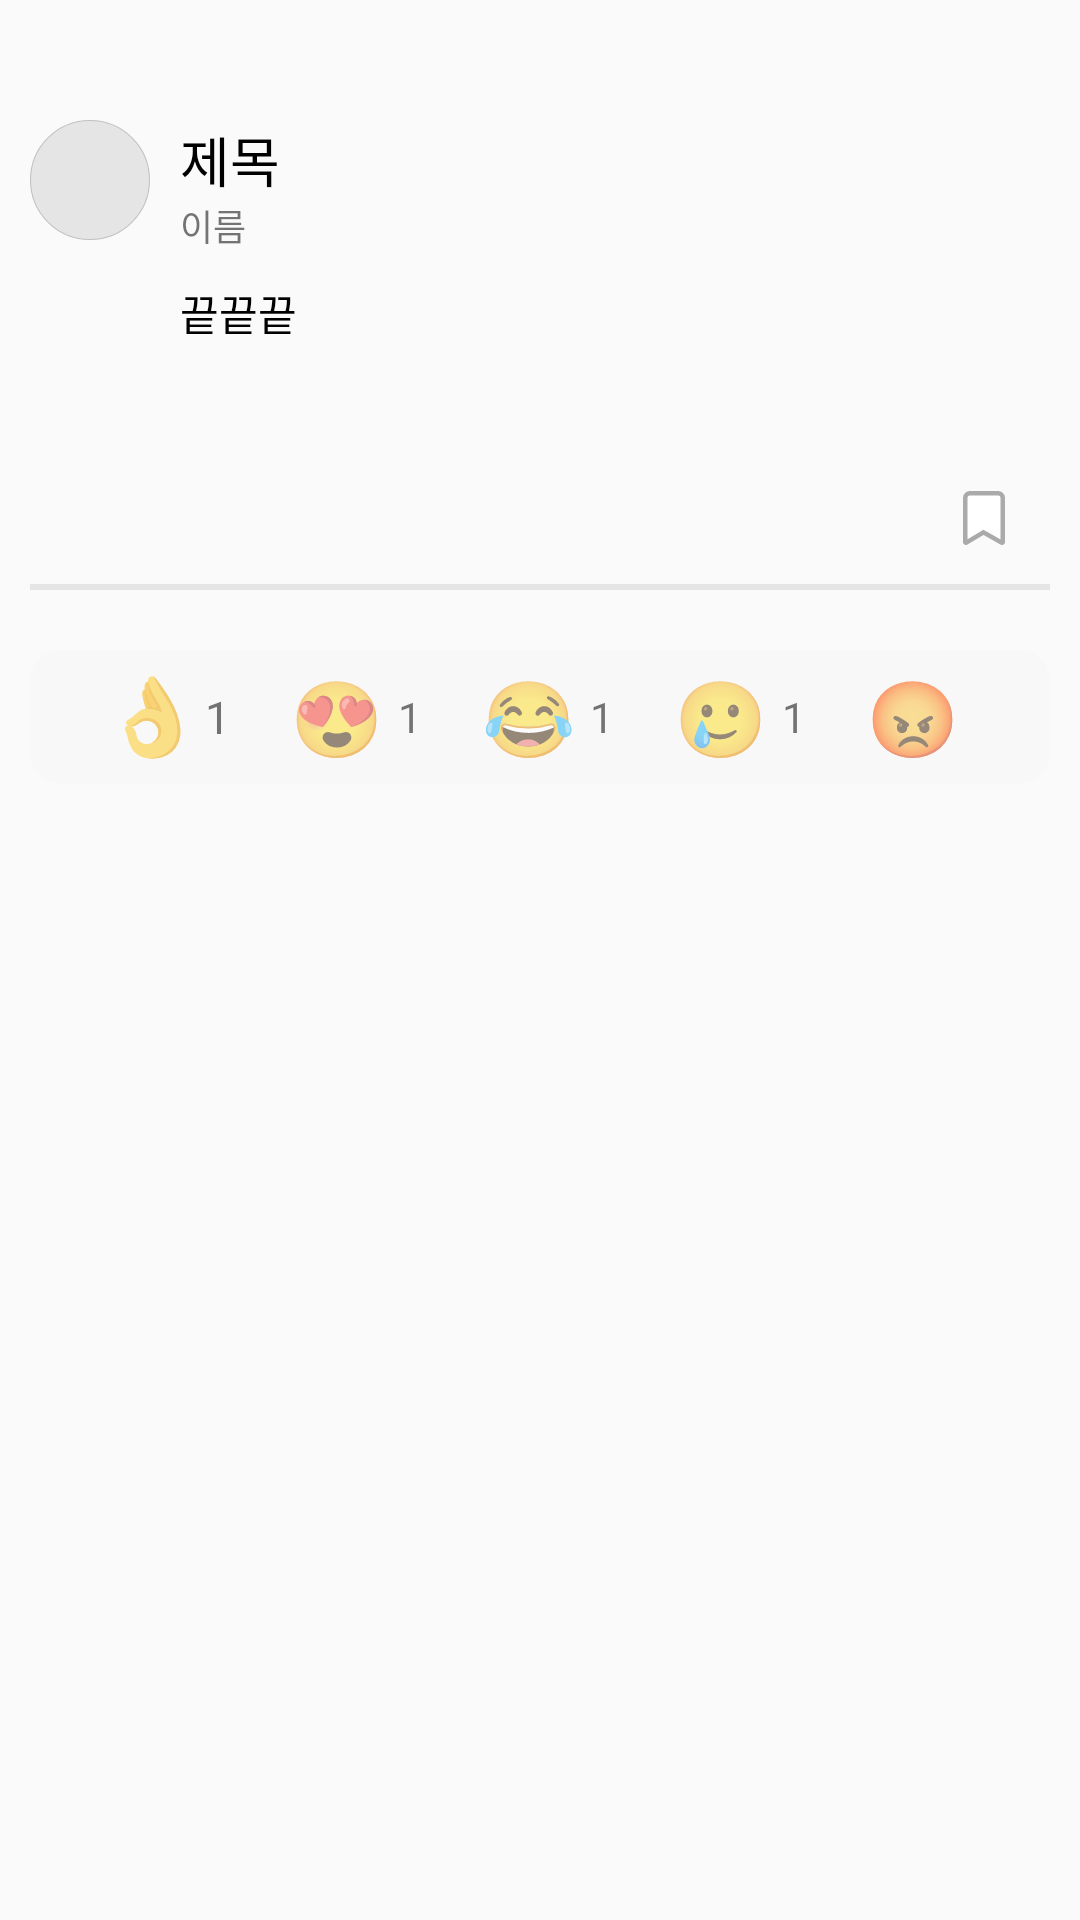

Named icons in this screenshot (1080*1920) and their bounding boxes, (x1, y1, x2, y2):
rvbookmark: (963, 491, 1005, 545)
